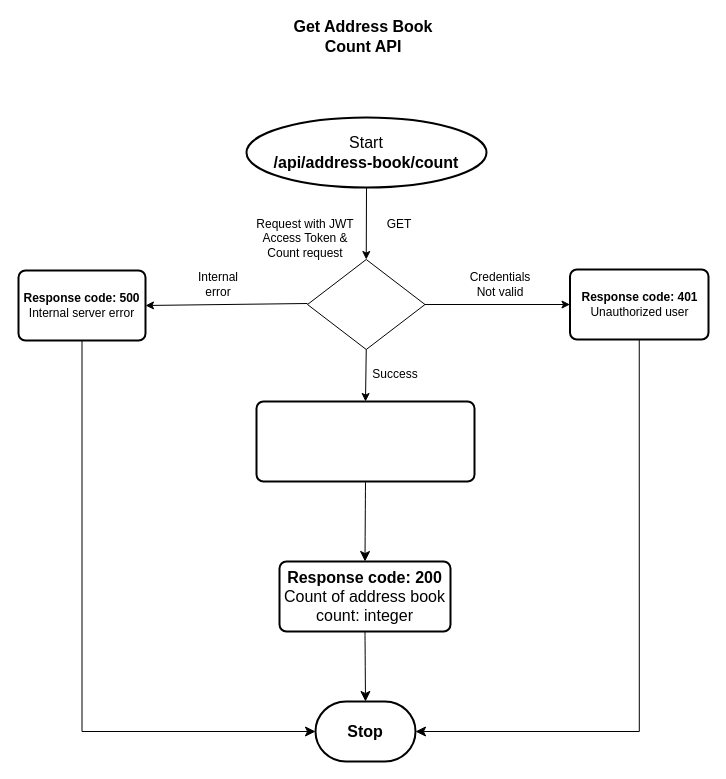
The diagram is 726 pixels wide and 779 high, and some of its shapes have lost their labels. The centre of each missing label's shape, as x and y in pixels:
"is authorized?" belongs at [365,304].
"Query Calculate the number of address book in the database" belongs at [365,441].
